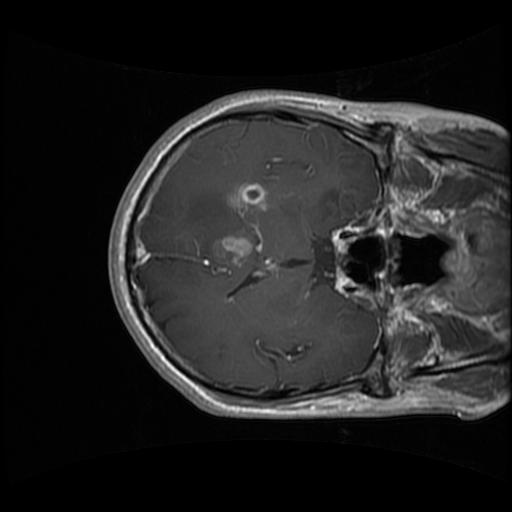glioma: (204, 178, 268, 273)
